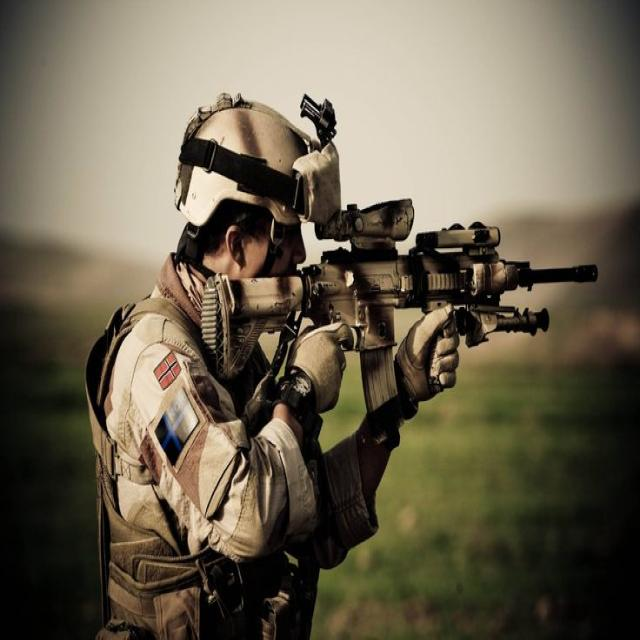Weapon: (134, 81, 623, 449)
